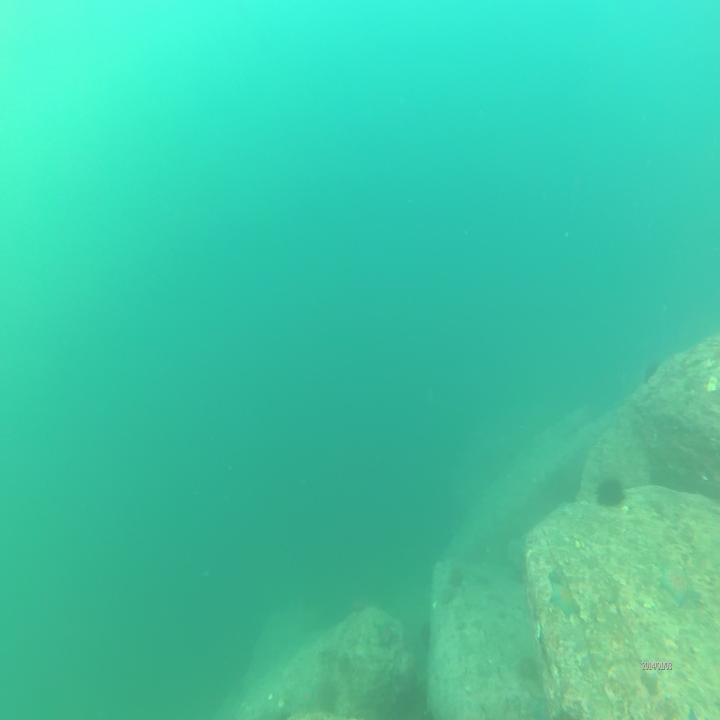echinus: (596, 474, 624, 510)
starfish: (657, 559, 700, 607), (548, 575, 580, 617), (374, 620, 396, 648)
